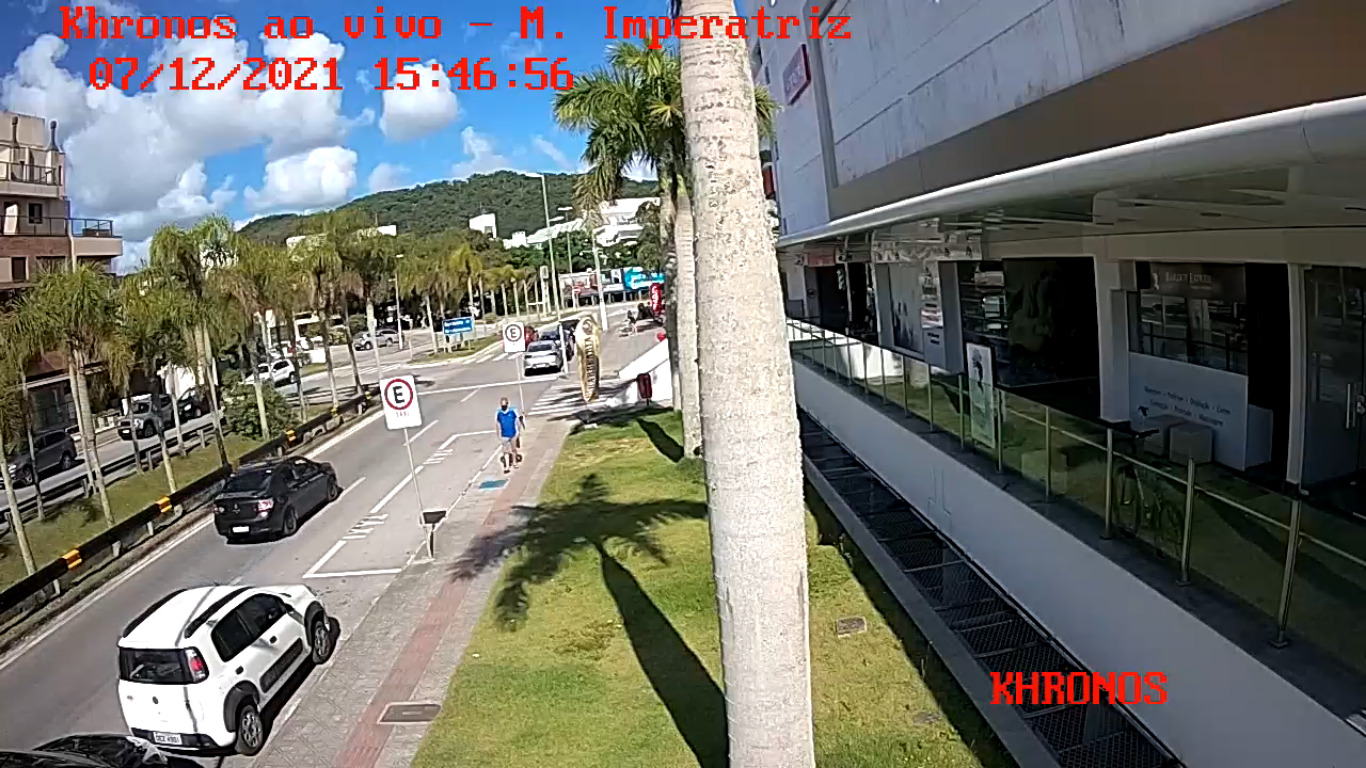car: (112, 583, 332, 758), (214, 456, 340, 539)
